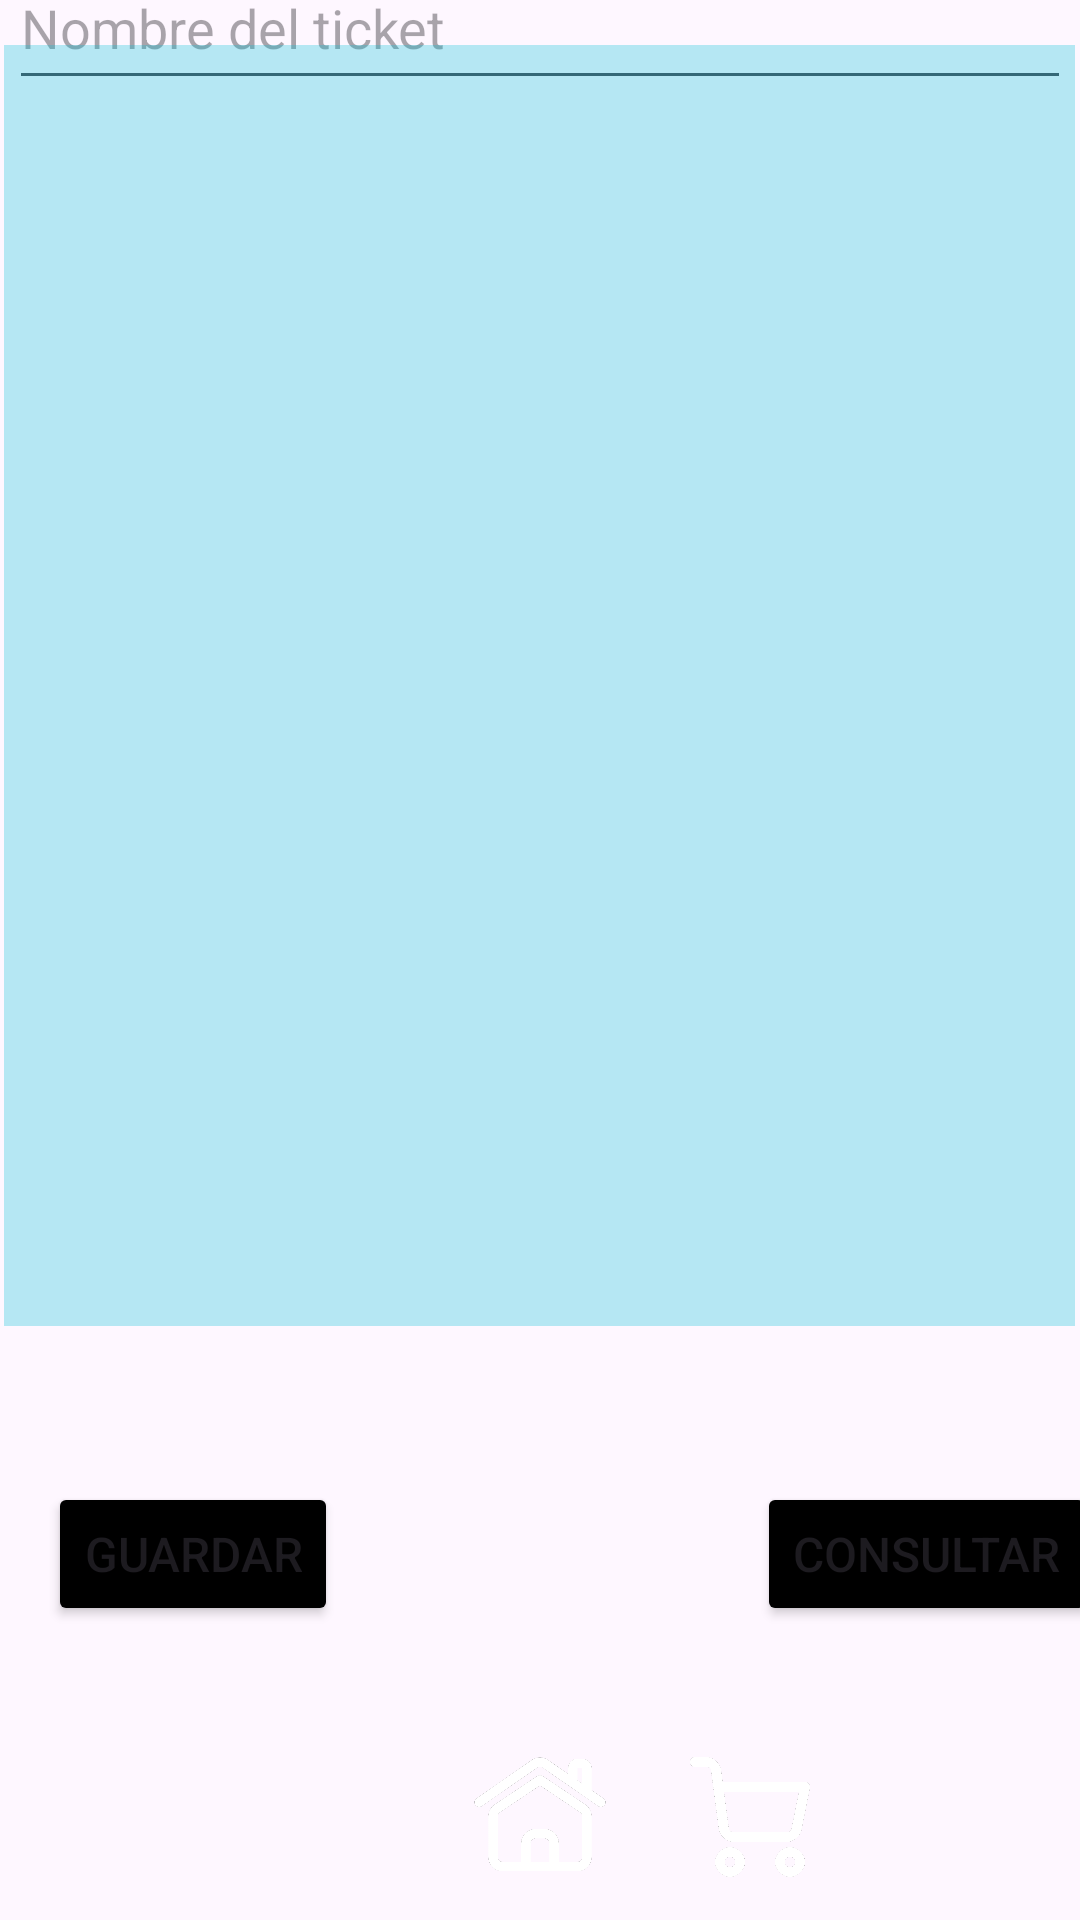

Icon click points for this 1080x1920 phone screenshot, format [x,y]:
carrito: [750,1812]
home: [540,1811]
